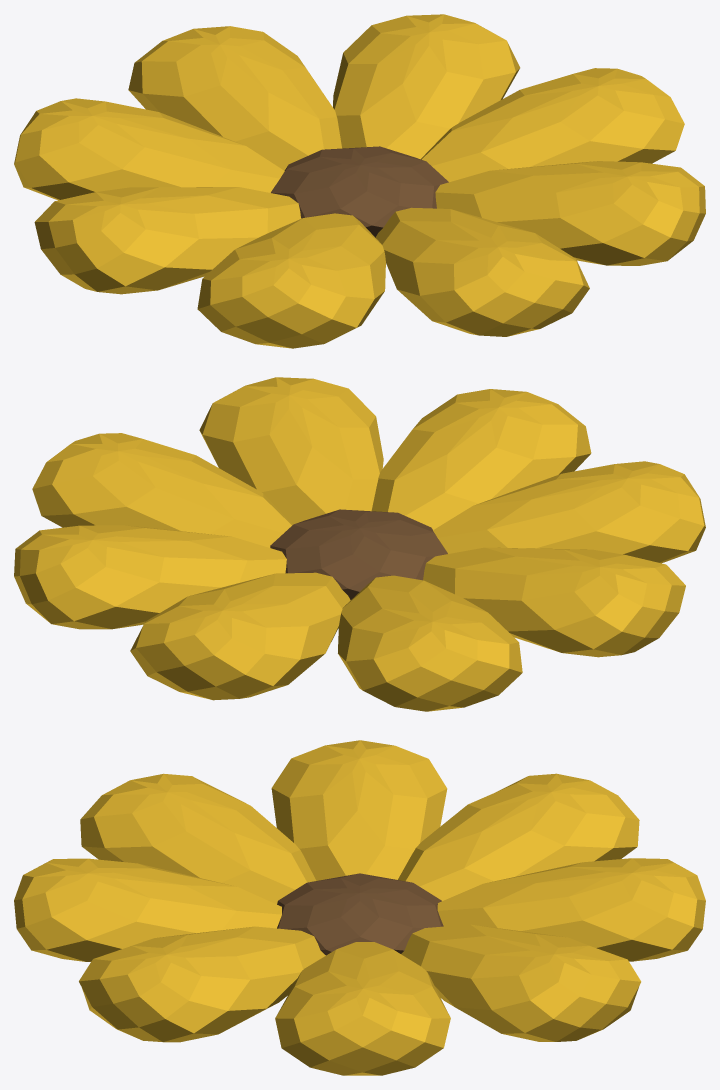
Rendered from Flower.fbx.
The picture shows the model from 3 angles, top to bottom: view 1: azimuth 30°, elevation 25°; view 2: azimuth 150°, elevation 25°; view 3: azimuth 270°, elevation 25°; orthographic projection.
Visible parts, largest first — view 1: Sphere.001; view 2: Sphere.001; view 3: Sphere.001.
Boxes of the visible parts, x1,y1,x2,y2 form: Sphere.001: [14, 14, 705, 348]; Sphere.001: [14, 377, 705, 711]; Sphere.001: [14, 740, 705, 1075].
Size of the model in its own units: 765 by 90.64 by 765.
